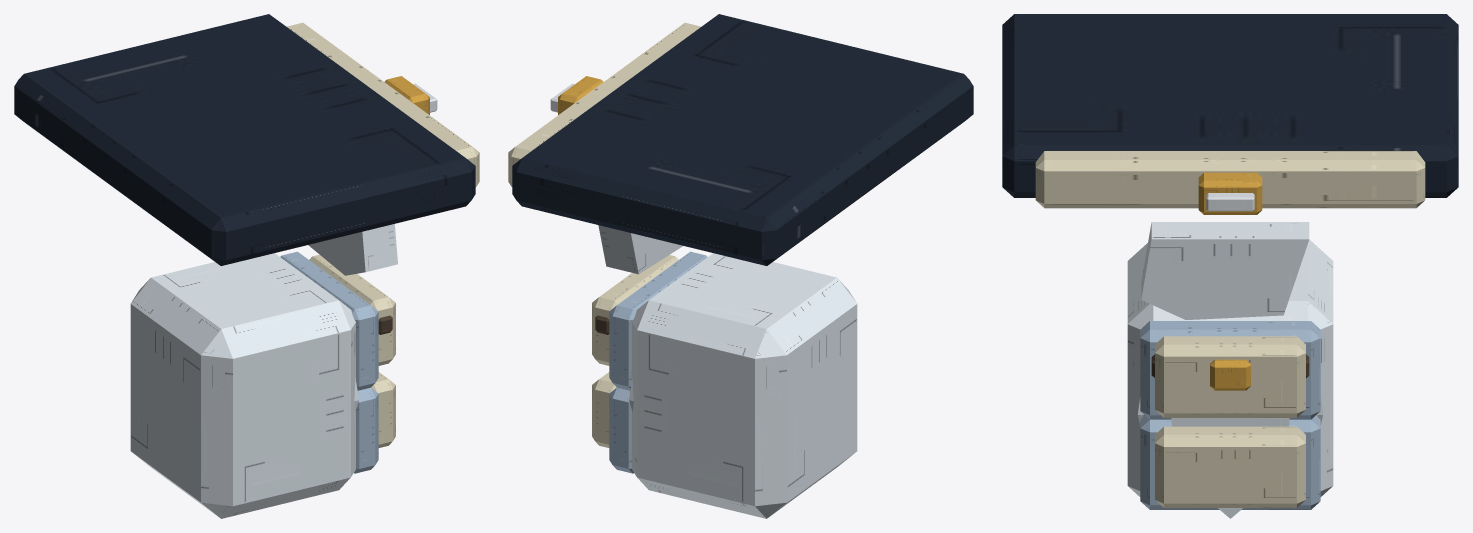
The model's file is breeches.glb.
The picture shows the model from 3 angles, left to right: view 1: azimuth 30°, elevation 25°; view 2: azimuth 150°, elevation 25°; view 3: azimuth 270°, elevation 25°; orthographic projection. The views are drawn at different scales.
Visible parts, largest first — view 1: hips, leg_L, shin_L; view 2: hips, leg_L, shin_L; view 3: hips, leg_L, shin_L.
Boxes of the visible parts, x1,y1,x2,y2 form: hips: (14,14,479,265); leg_L: (130,251,395,518); shin_L: (308,224,397,411); hips: (508,14,973,265); leg_L: (592,251,857,518); shin_L: (595,225,682,411); hips: (1002,14,1458,214); leg_L: (1127,239,1333,509); shin_L: (1138,222,1322,518).
Size of the model in its own units: 0.232 by 0.256 by 0.266.
Materials: 7 (7 with a texture image).
